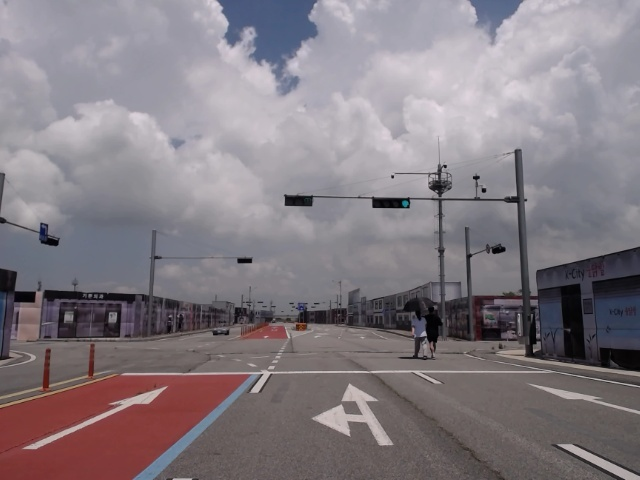straight_green_4: (371, 196, 412, 208)
